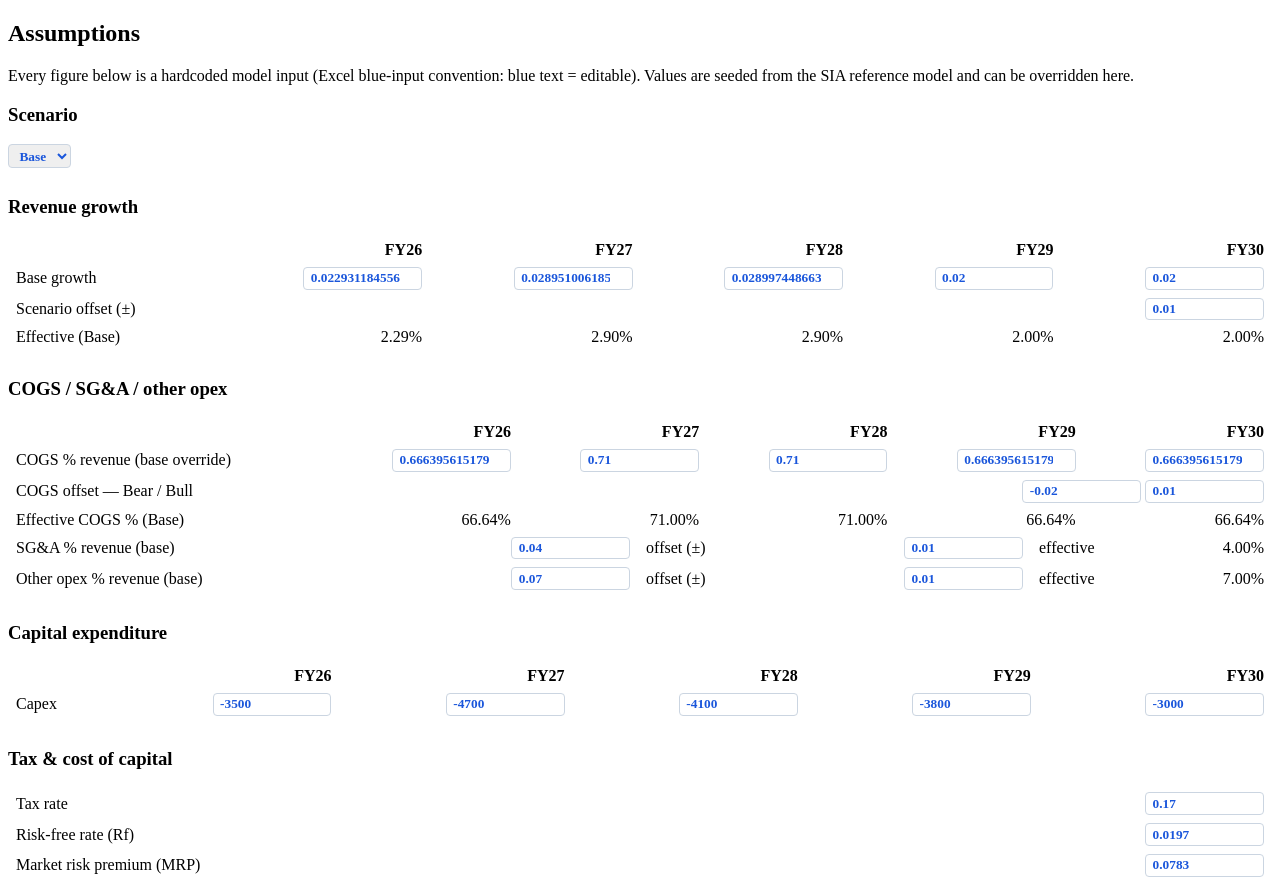
Test: AssumptionsView › switching to Bull moves the FY26 revenue growth display to base + offset (0.0329)
Select "Bull" in the dropdown named "Scenario" at (39, 156), box [8,144,71,168]
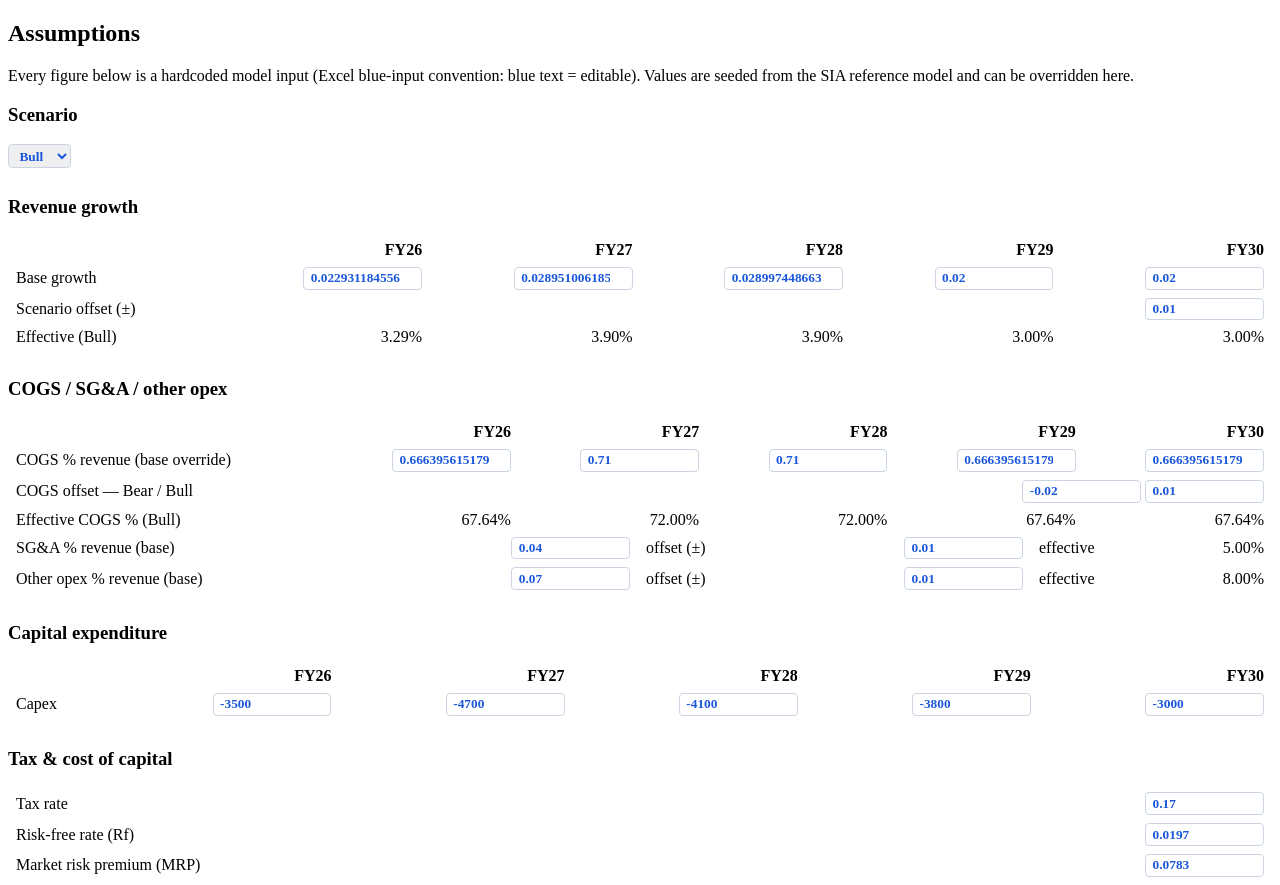
Expected: the cell with test id "effective-revenue-growth-0" reads "3.29%", [381,328,422,345]
